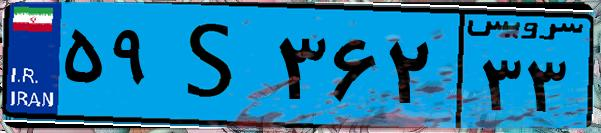2: (385, 28, 445, 110)
3: (270, 28, 330, 110), (475, 38, 525, 113), (525, 38, 570, 115)
5: (57, 26, 110, 100)
6: (330, 28, 385, 110)
9: (110, 28, 158, 98)
S: (158, 12, 270, 120)
